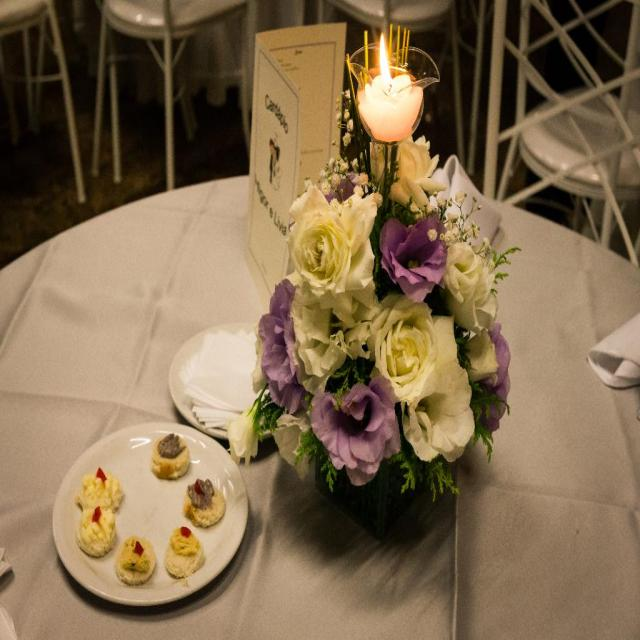non-organic waste: (44, 405, 257, 619)
